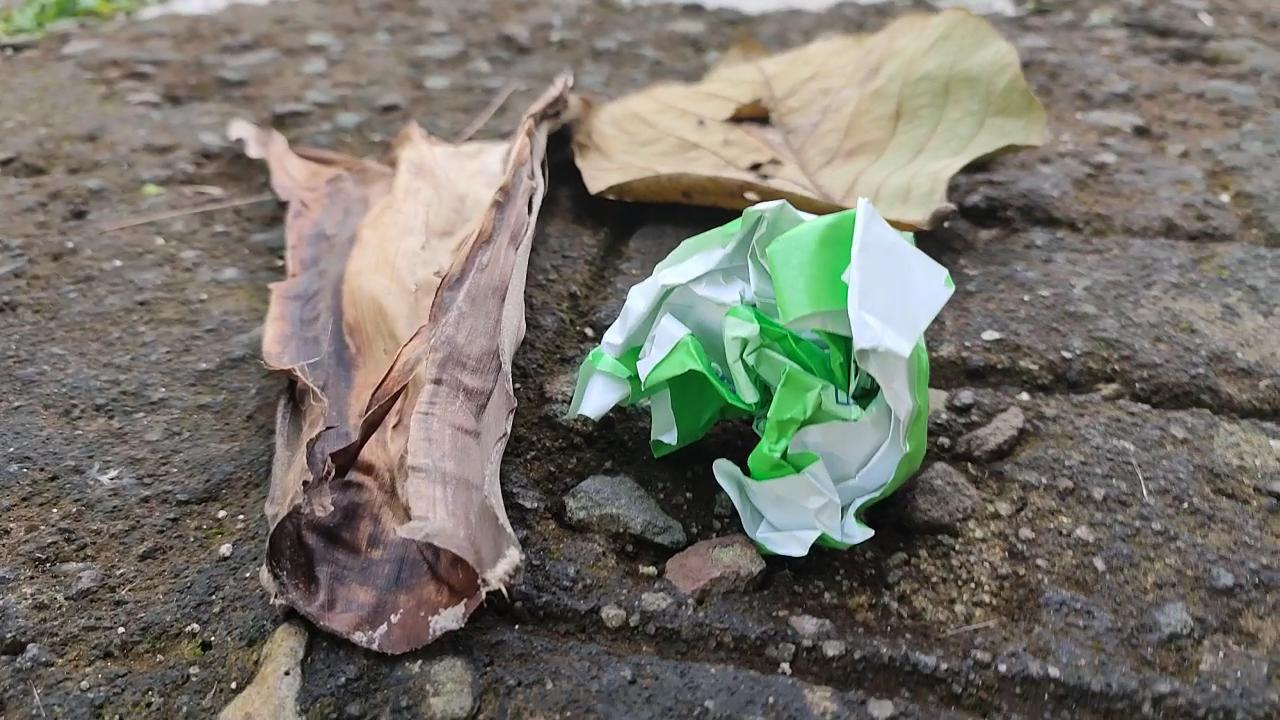Paper: (563, 190, 967, 583)
